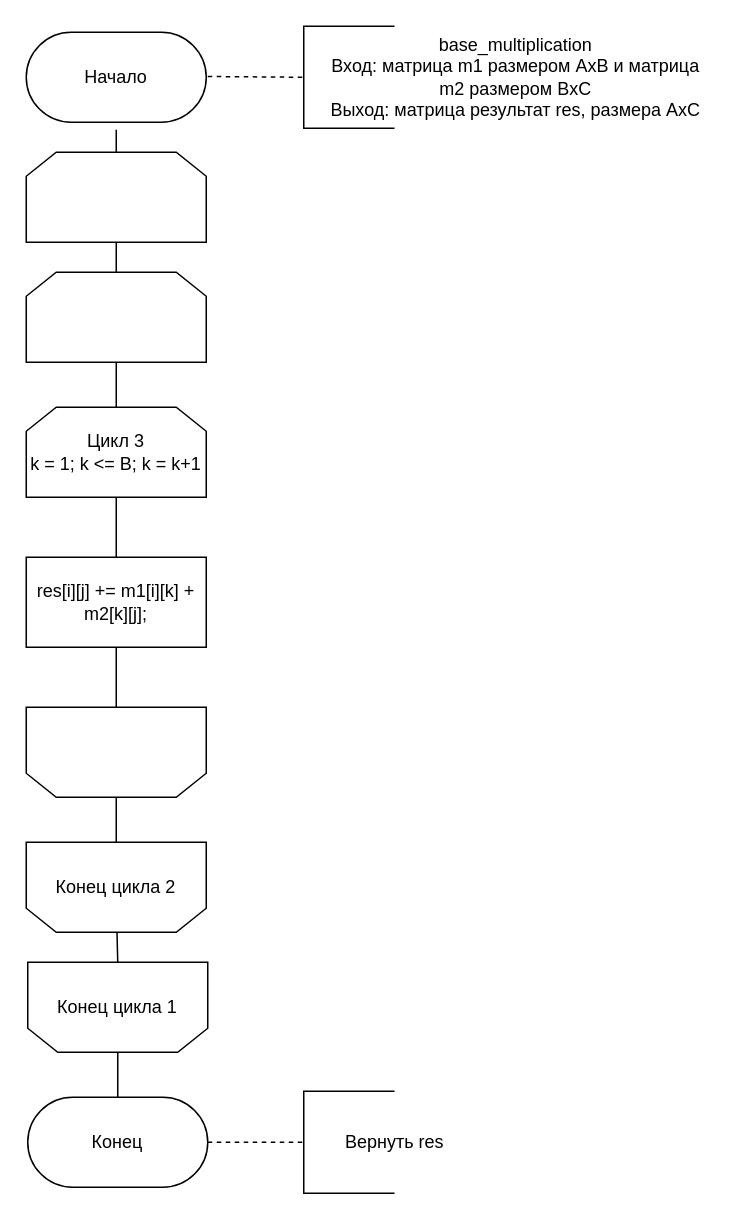
Image size: 729x1220. Some labels were removed from this diagram. The shapes that lost their labels are listed below. From the top down, each one's centre as x and y in pixels, then its label:
At pixel 115 196: "Цикл 1 i = 1; i <=A; i = i+1".
At pixel 115 316: "Цикл 2 j = 1; j <=C; j = j+1".
At pixel 115 751: "Конец цикла 3".
